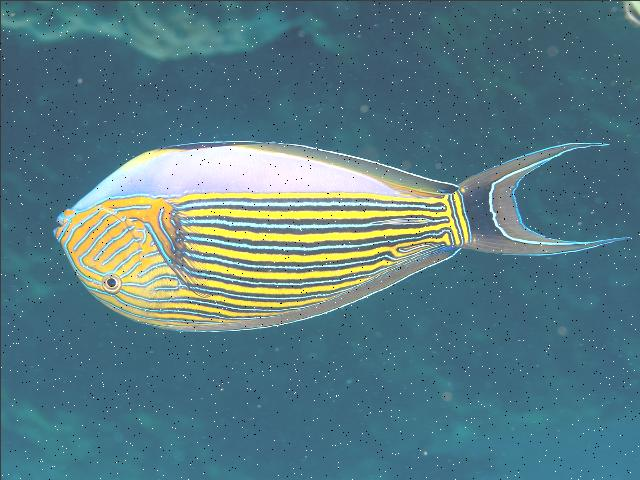Mulut: (30, 186, 100, 255)
Sirip Anal: (232, 126, 473, 212)
Sirip Dada: (139, 181, 217, 310)
Sirip Ekor: (438, 128, 630, 270)
Sirip Punggung: (155, 244, 469, 340)
